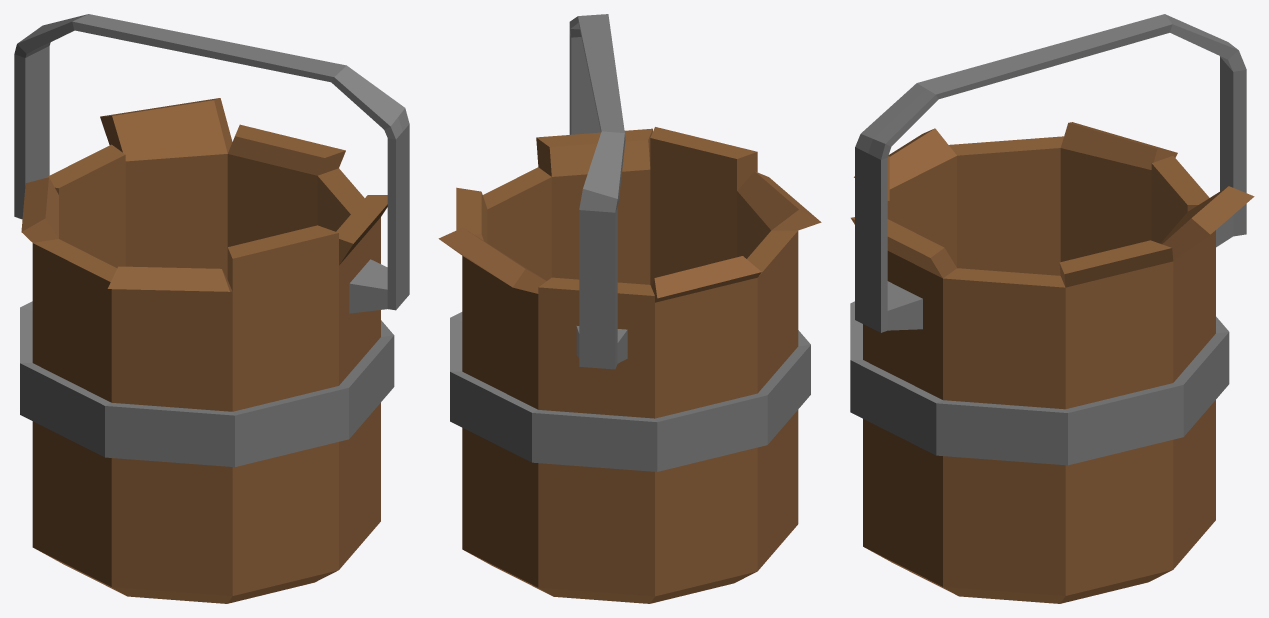
Rendered from bucket.fbx.
The picture shows the model from 3 angles, left to right: view 1: azimuth 30°, elevation 25°; view 2: azimuth 150°, elevation 25°; view 3: azimuth 270°, elevation 25°; orthographic projection. The views are drawn at different scales.
Parts seen in each view (by area): view 1: bucket; view 2: bucket; view 3: bucket.
Boxes of the visible parts, bbox=[...] form: bucket: bbox=[14, 14, 409, 603]; bucket: bbox=[438, 14, 821, 603]; bucket: bbox=[850, 14, 1254, 603].
Size of the model in its own units: 93.24 by 133 by 97.96.
